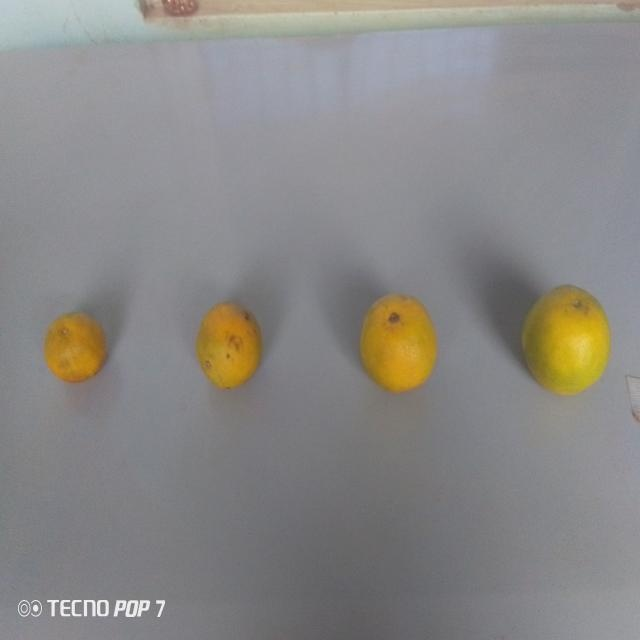agrume: (516, 278, 616, 404), (352, 295, 443, 395), (190, 297, 271, 391), (36, 303, 112, 387)
